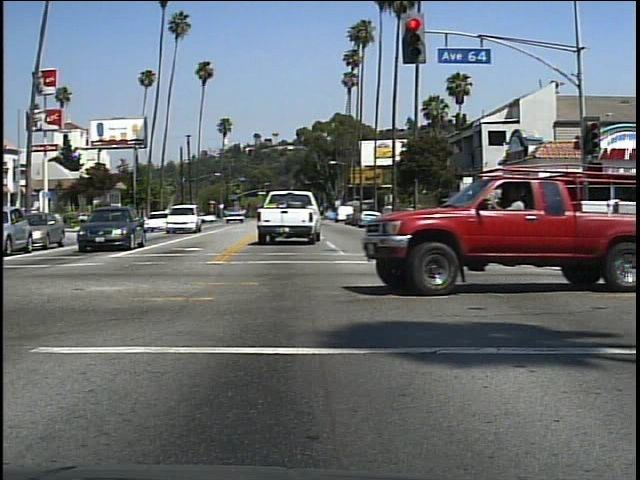person: (498, 180, 538, 298), (477, 199, 503, 236)
